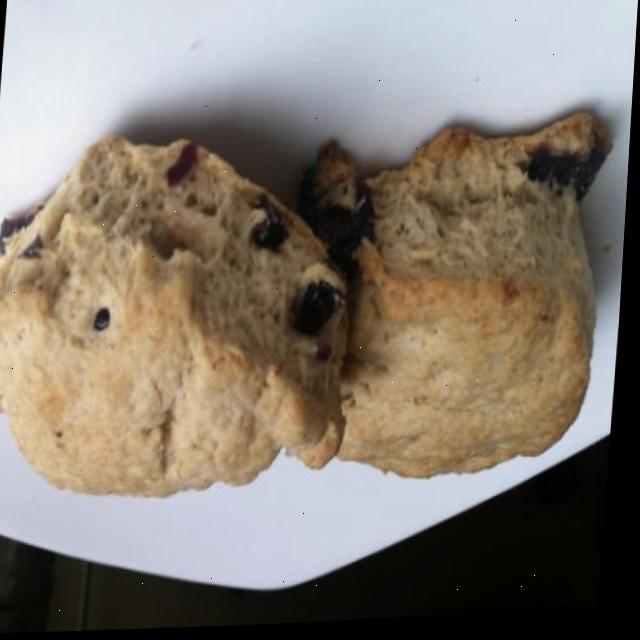面包点心: (0, 62, 627, 559)
